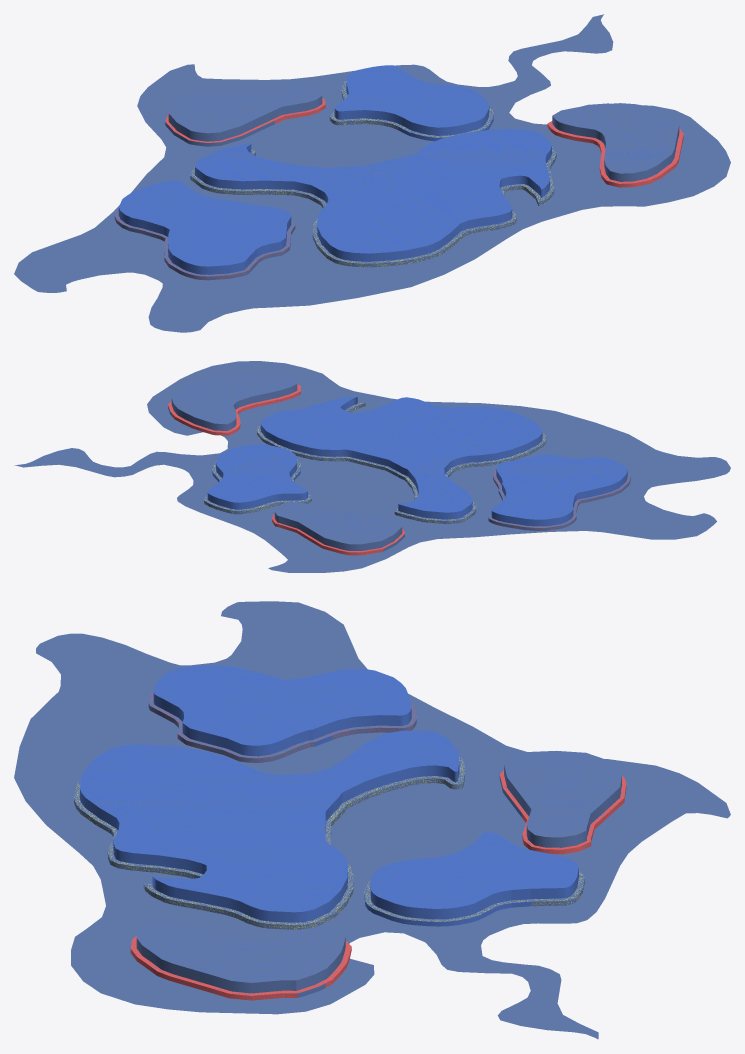
Rendered from floor2.fbx.
3 renders of one model, top to bottom at view 1: azimuth 30°, elevation 25°; view 2: azimuth 150°, elevation 25°; view 3: azimuth 270°, elevation 25°, orthographic. The views are drawn at different scales.
Visible parts, largest first — view 1: Group3, Group2; view 2: Group3, Group2; view 3: Group3, Group2.
Part boxes in pixels (<box>): Group3: <box>114,65,683,280</box>; Group2: <box>14,14,730,332</box>; Group3: <box>168,372,630,555</box>; Group2: <box>14,361,730,572</box>; Group3: <box>74,665,626,1000</box>; Group2: <box>14,601,730,1039</box>.
Bounding box in the file's own units: 36064 × 581 × 24924.
